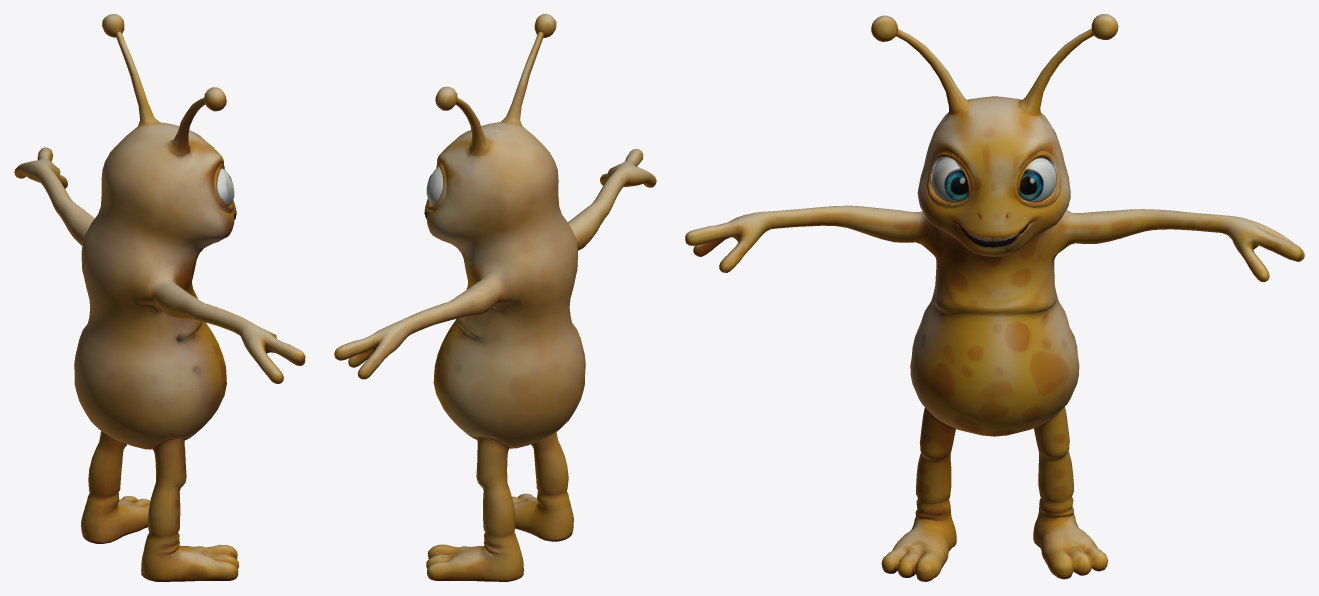
The model's file is BOG.glb.
3 renders of one model, left to right at view 1: azimuth 30°, elevation 25°; view 2: azimuth 150°, elevation 25°; view 3: azimuth 270°, elevation 25°, orthographic. The views are drawn at different scales.
Parts seen in each view (by area): view 1: tripo_9724a883_740d_475d_b38f_d1e6b070bd39; view 2: tripo_9724a883_740d_475d_b38f_d1e6b070bd39; view 3: tripo_9724a883_740d_475d_b38f_d1e6b070bd39.
Part boxes in pixels (x1,y1,x2,y2): tripo_9724a883_740d_475d_b38f_d1e6b070bd39: (14, 14, 305, 581); tripo_9724a883_740d_475d_b38f_d1e6b070bd39: (334, 14, 656, 581); tripo_9724a883_740d_475d_b38f_d1e6b070bd39: (685, 14, 1304, 581).
Bounding box in the file's own units: 0.2983 × 0.9741 × 0.9995.
1 material, 1 textured.
